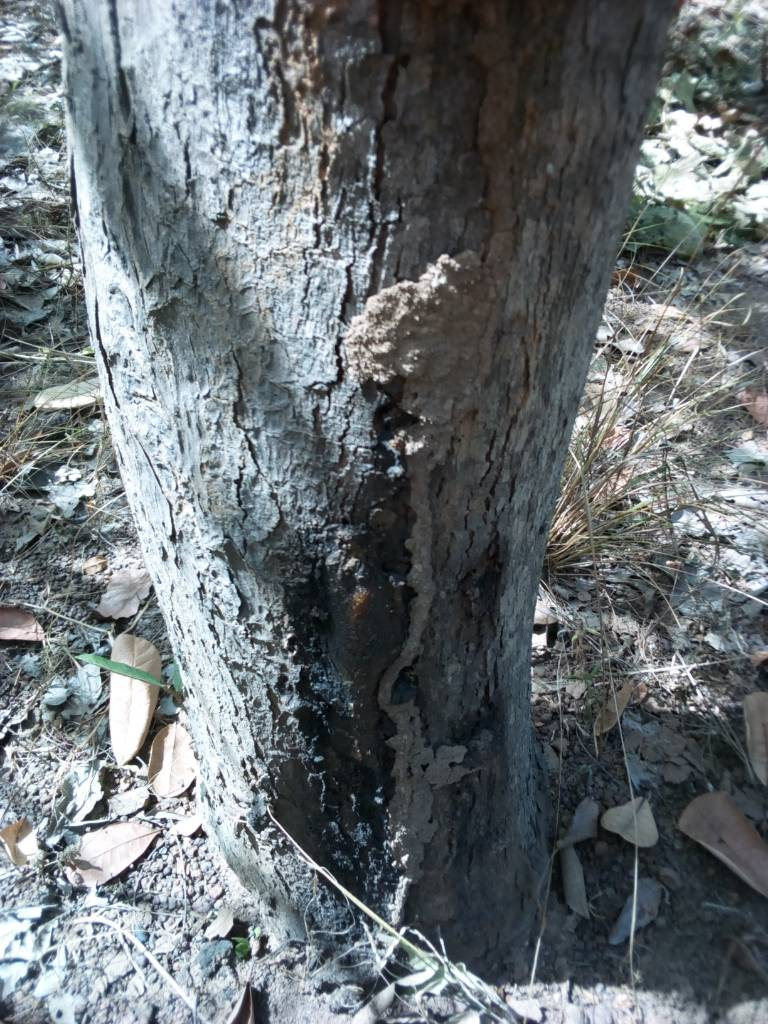Termites: (347, 253, 530, 928)
